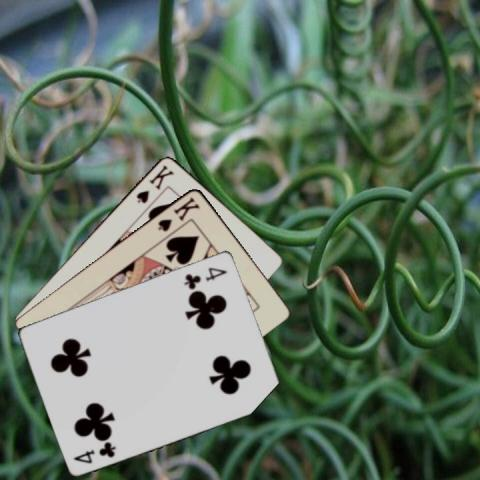4c: (182, 264, 229, 290), (71, 438, 117, 464)
Ks: (133, 161, 175, 205), (155, 194, 201, 233)
